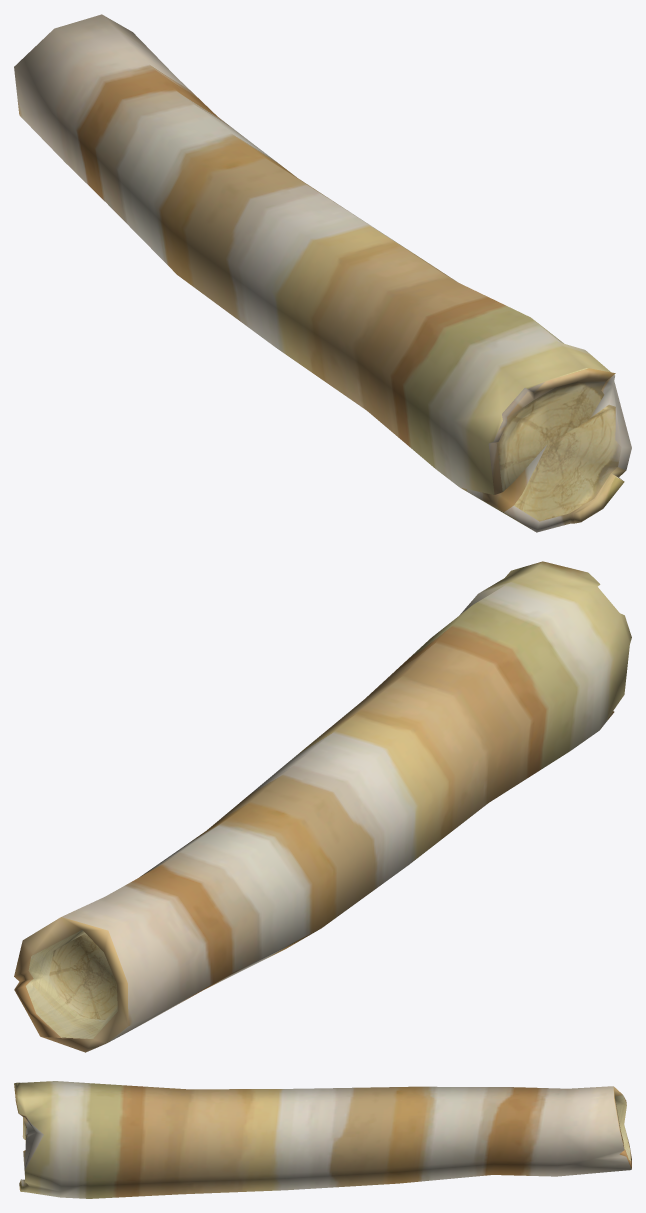
File: P_PalmFallen01.obj
The picture shows the model from 3 angles, top to bottom: view 1: azimuth 30°, elevation 25°; view 2: azimuth 150°, elevation 25°; view 3: azimuth 270°, elevation 25°; orthographic projection. The views are drawn at different scales.
Bounding box in the file's own units: 0.9444 × 0.9547 × 5.23.
